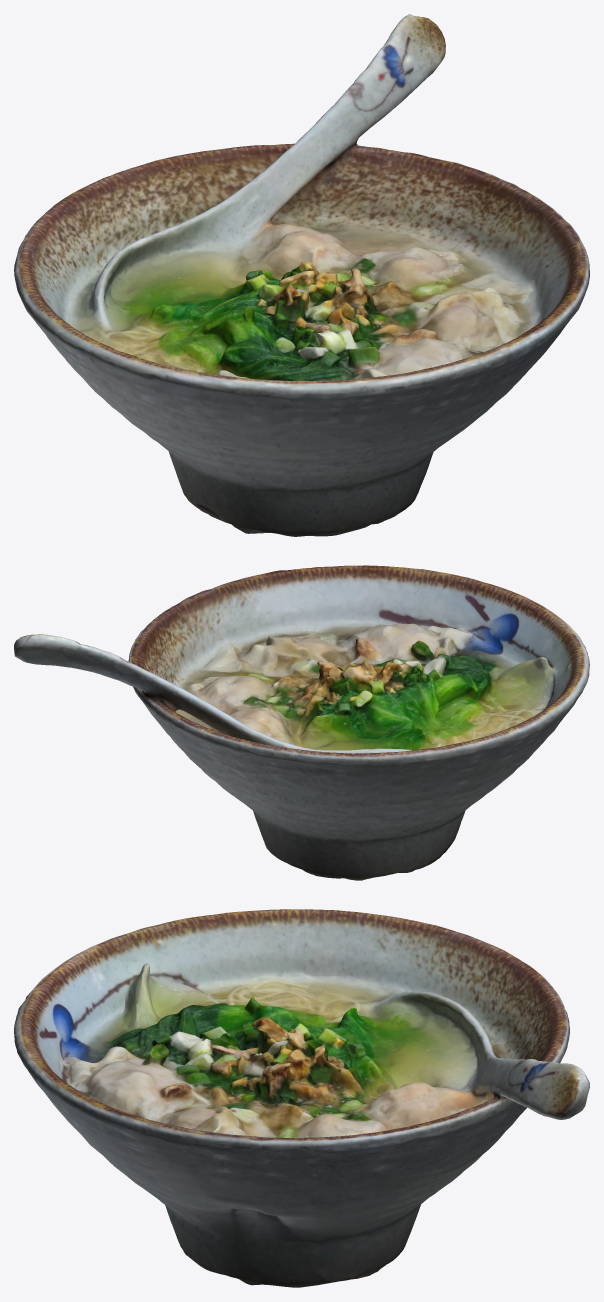
File: bowl-yuzu.glb
3 views of the same model, one above another, from view 1: azimuth 30°, elevation 25°; view 2: azimuth 150°, elevation 25°; view 3: azimuth 270°, elevation 25° (orthographic). The views are drawn at different scales.
Parts seen in each view (by area): view 1: bowl_yuzu; view 2: bowl_yuzu; view 3: bowl_yuzu.
Boxes of the visible parts, left/top/right/bottom form: bowl_yuzu: left=14, top=14, right=589, bottom=536; bowl_yuzu: left=14, top=565, right=589, bottom=880; bowl_yuzu: left=14, top=909, right=589, bottom=1287.
Size of the model in its own units: 2.14 by 1.17 by 2.07.
1 material, 1 textured.
